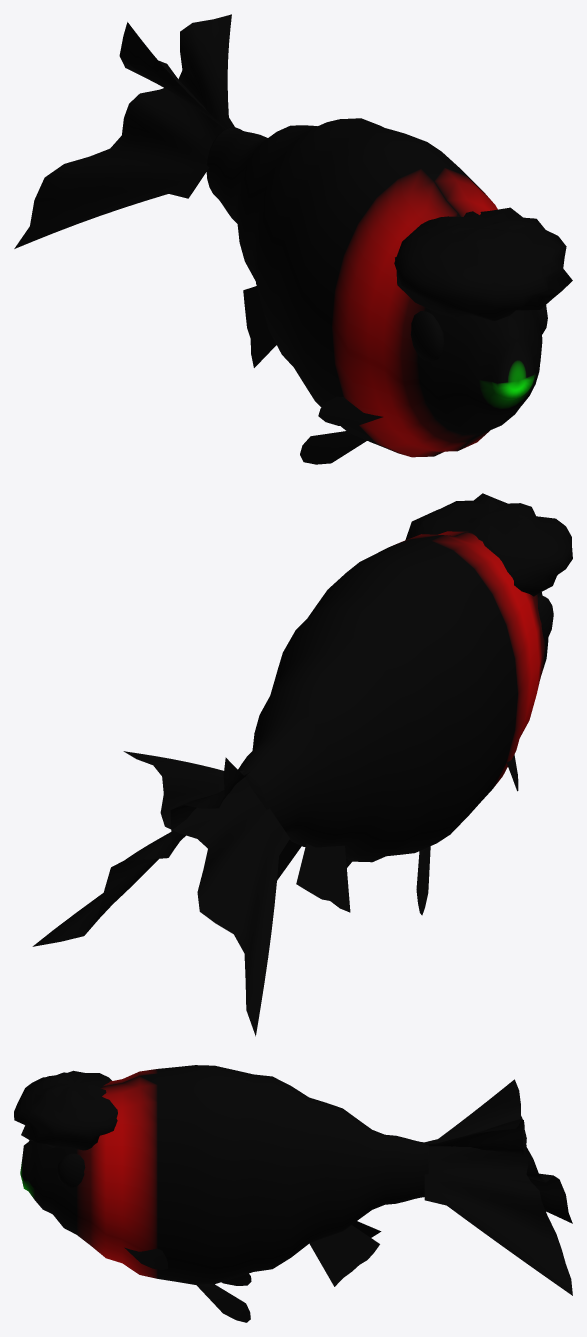
File: goldfish-ranchu.glb
The picture shows the model from 3 angles, top to bottom: view 1: azimuth 30°, elevation 25°; view 2: azimuth 150°, elevation 25°; view 3: azimuth 270°, elevation 25°; orthographic projection. The views are drawn at different scales.
Parts seen in each view (by area): view 1: gfranchu_body, gfranchu_caudalR, gfranchu_bodyWen, gfranchu_caudalL, gfranchu_pelvicL, gfranchu_analR, gfranchu_eyeL, gfranchu_pectoralL; view 2: gfranchu_body, gfranchu_caudalR, gfranchu_bodyWen, gfranchu_caudalL, gfranchu_analR, gfranchu_pelvicL; view 3: gfranchu_body, gfranchu_caudalL, gfranchu_bodyWen, gfranchu_caudalR, gfranchu_analL, gfranchu_pelvicR, gfranchu_eyeR, gfranchu_pectoralR.
Part boxes in pixels (x1,y1,x2,y2): gfranchu_body: (206,118,542,457); gfranchu_caudalR: (14,14,235,248); gfranchu_bodyWen: (394,207,572,320); gfranchu_caudalL: (119,22,228,129); gfranchu_pelvicL: (300,431,366,464); gfranchu_analR: (243,286,276,367); gfranchu_eyeL: (410,311,444,361); gfranchu_pectoralL: (318,396,382,426); gfranchu_body: (238,531,548,862); gfranchu_caudalR: (123,751,289,1036); gfranchu_bodyWen: (405,493,572,596); gfranchu_caudalL: (32,757,249,946); gfranchu_analR: (296,843,350,912); gfranchu_pelvicL: (416,846,430,915); gfranchu_body: (20,1065,429,1284); gfranchu_caudalL: (424,1079,572,1295); gfranchu_bodyWen: (14,1070,117,1150); gfranchu_caudalR: (425,1119,572,1223); gfranchu_analL: (309,1225,379,1286); gfranchu_pelvicR: (196,1283,250,1322); gfranchu_eyeR: (57,1153,85,1187); gfranchu_pectoralR: (124,1247,167,1270).
Bounding box in the file's own units: 0.4976 × 0.6332 × 1.37.
